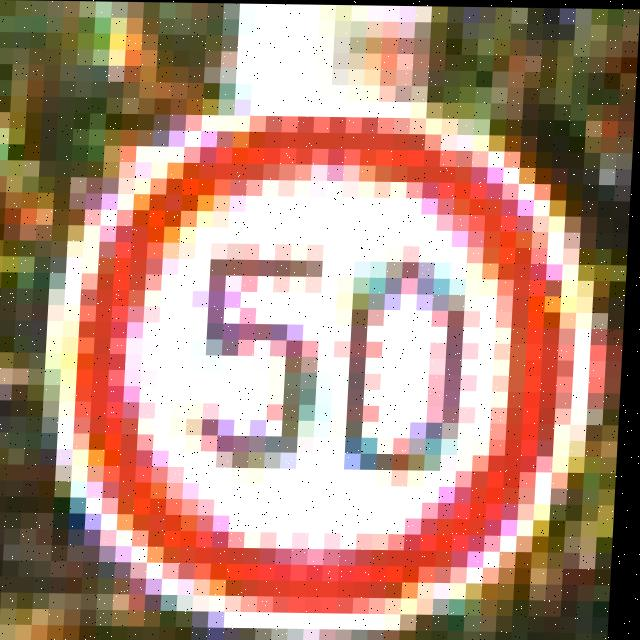speed_limit_50: (40, 46, 605, 633)
